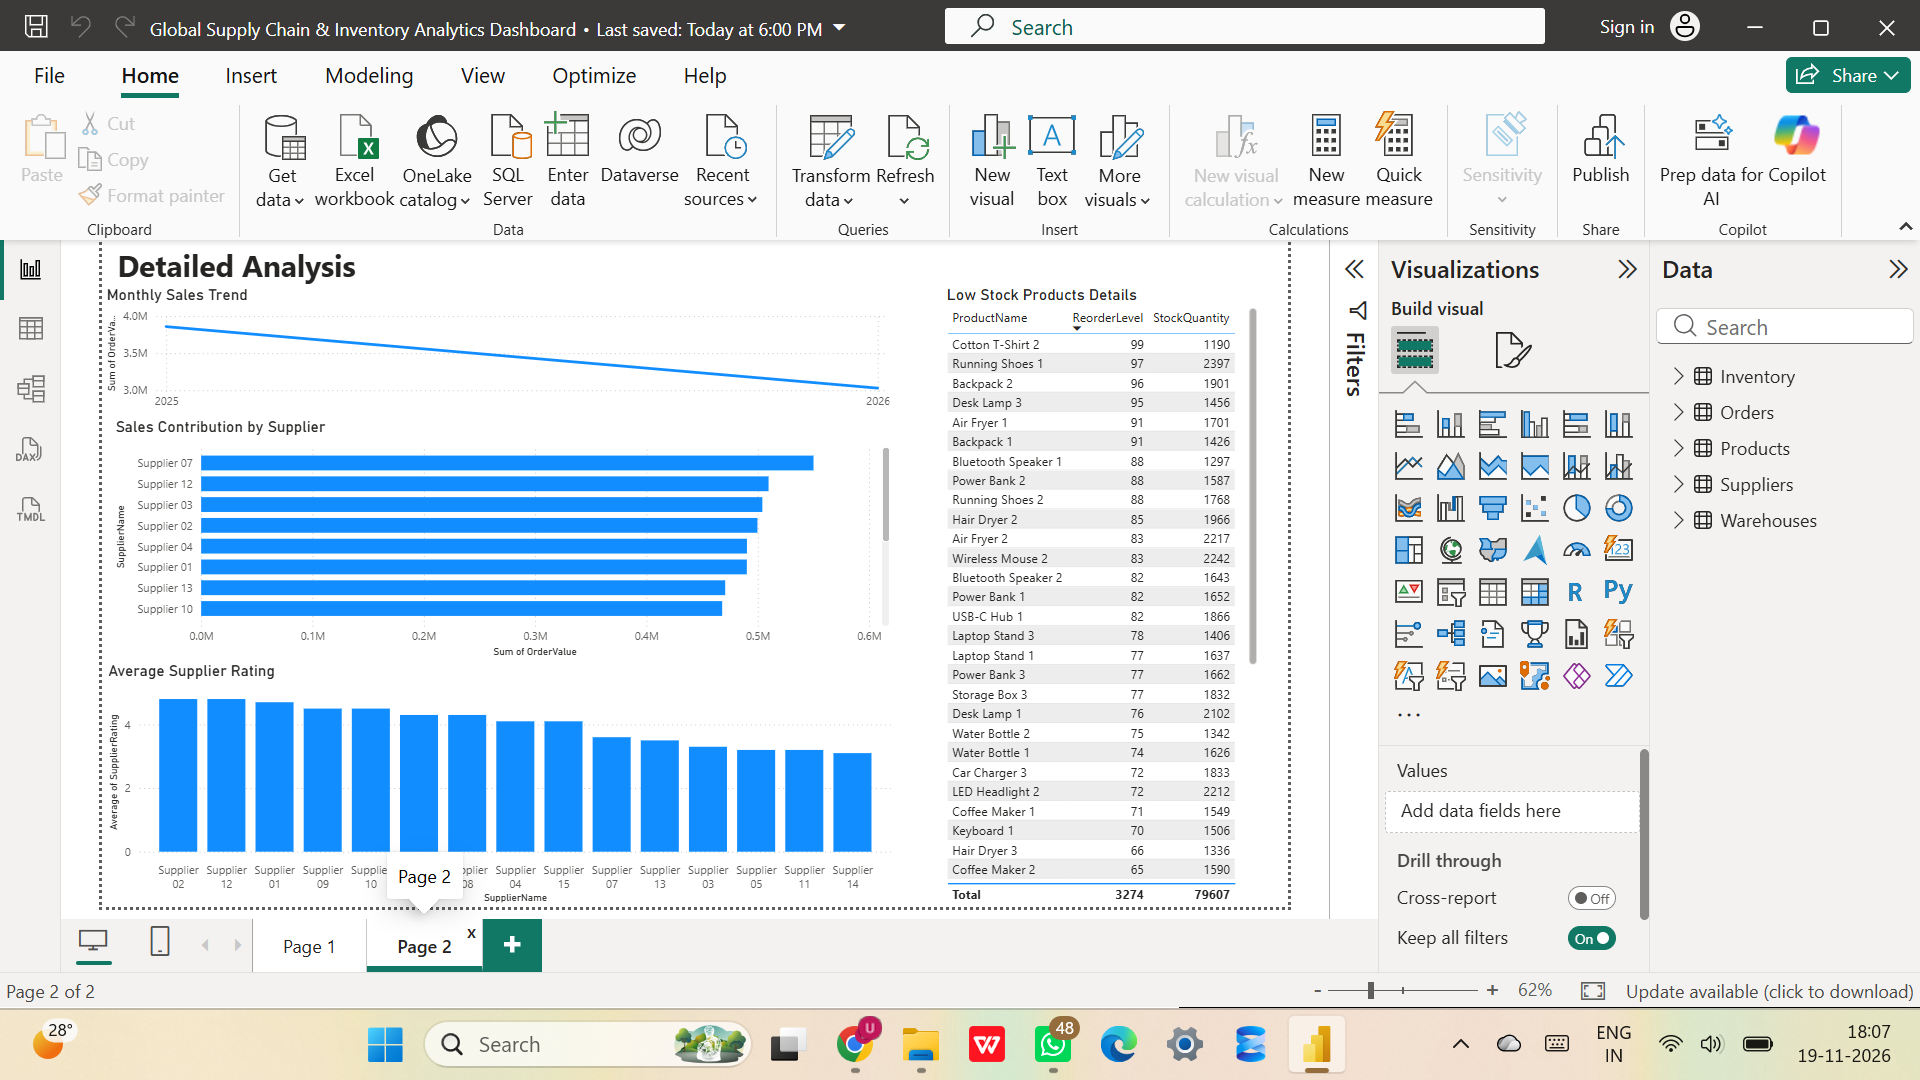

This screenshot's page, from the dashboard's own definition file:
{"tool":"powerbi","page":{"name":"Page 2","canvas":[1280,720],"ordinal":1},"visuals":[{"type":"textbox","box":[10.6,0,931.8,97],"z":0},{"type":"lineChart","title":"Monthly Sales Trend","fields":{"Category":["Orders.OrderDate.Variation.Date Hierarchy.Year","Orders.OrderDate.Variation.Date Hierarchy.Quarter","Orders.OrderDate.Variation.Date Hierarchy.Month","Orders.OrderDate.Variation.Date Hierarchy.Day"],"Y":["Sum(Orders.OrderValue)"]},"box":[0,48.3,855,143.3],"z":1000},{"type":"clusteredBarChart","title":"Sales Contribution by Supplier","fields":{"Category":["Suppliers.SupplierName"],"Y":["Sum(Orders.OrderValue)"]},"box":[10,191.7,845,263.3],"z":2000},{"type":"clusteredColumnChart","title":"Average Supplier Rating","fields":{"Category":["Suppliers.SupplierName"],"Y":["Avg(Suppliers.SupplierRating)"]},"box":[1.7,455,855,265],"z":3000},{"type":"tableEx","title":"Low Stock Products Details","fields":{"Values":["Products.ProductName","Sum(Products.ReorderLevel)","Sum(Inventory.StockQuantity)"]},"box":[906.7,48.3,345,671.7],"z":4001}]}

Visuals, with their boxes on the page's 1280x720 design canvas (x1, y1, x2, y2). These are canvas units, not pixel positions in the 1920x1080 screenshot, which may show the page scaled, cropped or inside an application window:
textbox: (11,0,942,97)
"Monthly Sales Trend" lineChart: (0,48,855,192)
"Sales Contribution by Supplier" clusteredBarChart: (10,192,855,455)
"Average Supplier Rating" clusteredColumnChart: (2,455,857,720)
"Low Stock Products Details" tableEx: (907,48,1252,720)
